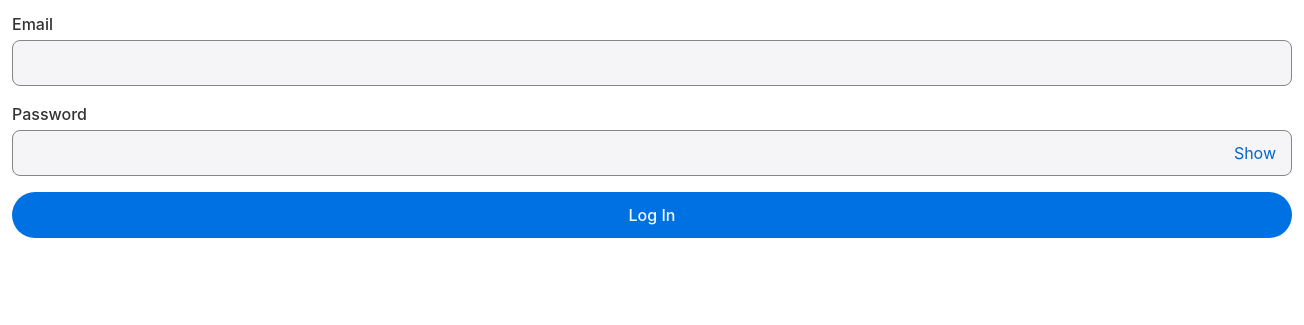
Test: LoginForm › displays a friendly error banner when the API rejects credentials
Type "bad@example.com" into the field labelled "Email" at [652, 63], box [12, 40, 1292, 86]
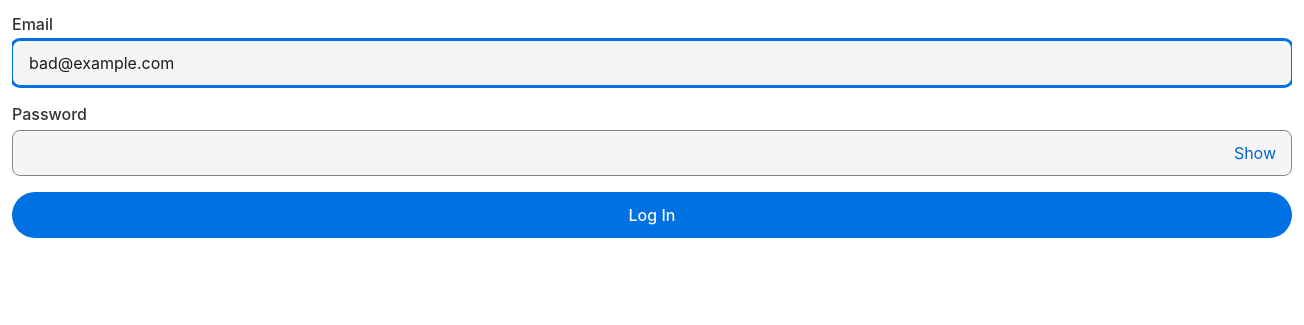
Type "wrongpassword" into the password field labelled "Password" at [652, 153], box [12, 130, 1292, 176]
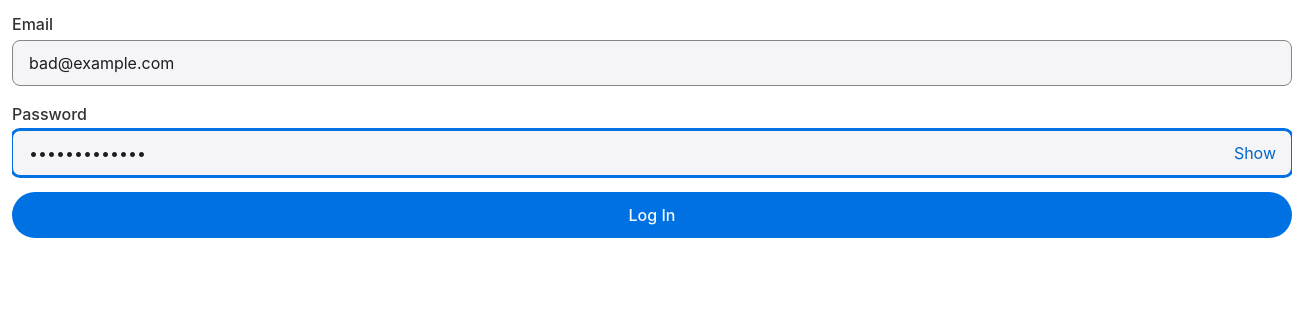
Click the button "Log In" at [652, 215], box [12, 192, 1292, 238]
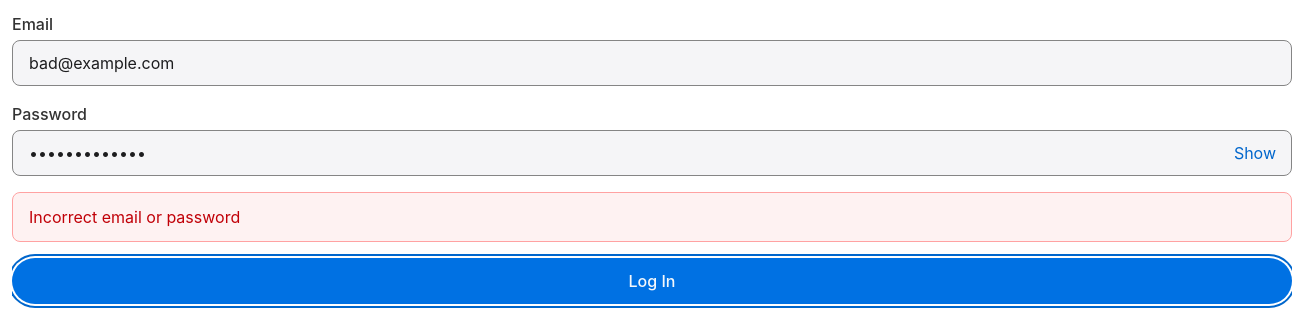
Expected: the message reads "Incorrect email or password", [29, 207, 240, 227]
